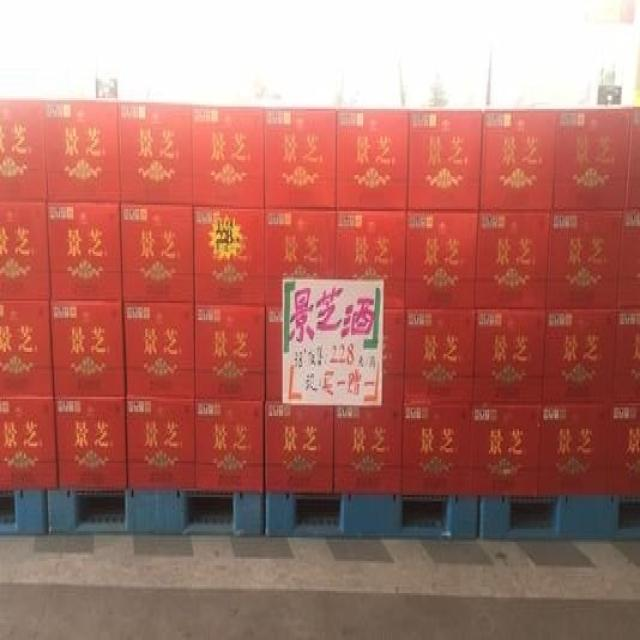box: (42, 98, 121, 203), (116, 100, 193, 207), (479, 109, 556, 211), (406, 109, 482, 211), (554, 109, 630, 211), (476, 211, 553, 311), (471, 307, 548, 407), (547, 209, 623, 309), (47, 201, 121, 303), (542, 307, 617, 407), (50, 301, 126, 399), (121, 201, 194, 303), (192, 105, 265, 207), (264, 109, 337, 209), (337, 107, 407, 211), (405, 211, 479, 309), (121, 301, 194, 399), (193, 303, 266, 401), (264, 397, 337, 495), (265, 209, 337, 307), (192, 209, 265, 305), (405, 309, 476, 407), (53, 397, 127, 491), (538, 405, 611, 499), (336, 209, 406, 307), (470, 405, 542, 499), (195, 399, 264, 495), (126, 397, 194, 491), (333, 403, 403, 493), (403, 403, 471, 493), (0, 299, 53, 397), (0, 397, 56, 489), (0, 98, 48, 203), (0, 201, 50, 301), (605, 403, 640, 491), (611, 305, 640, 403), (617, 205, 640, 307), (382, 307, 405, 403), (624, 109, 640, 207), (265, 307, 282, 399)
